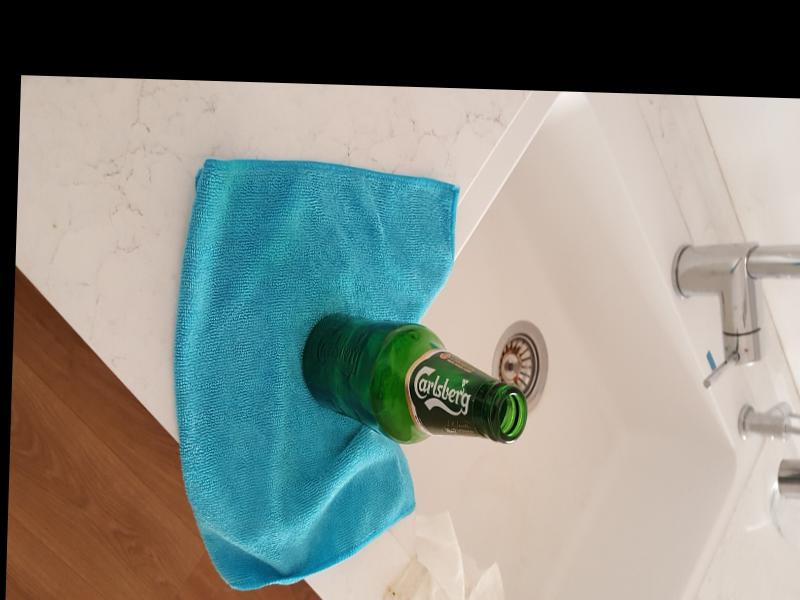Beer: (296, 315, 526, 448)
